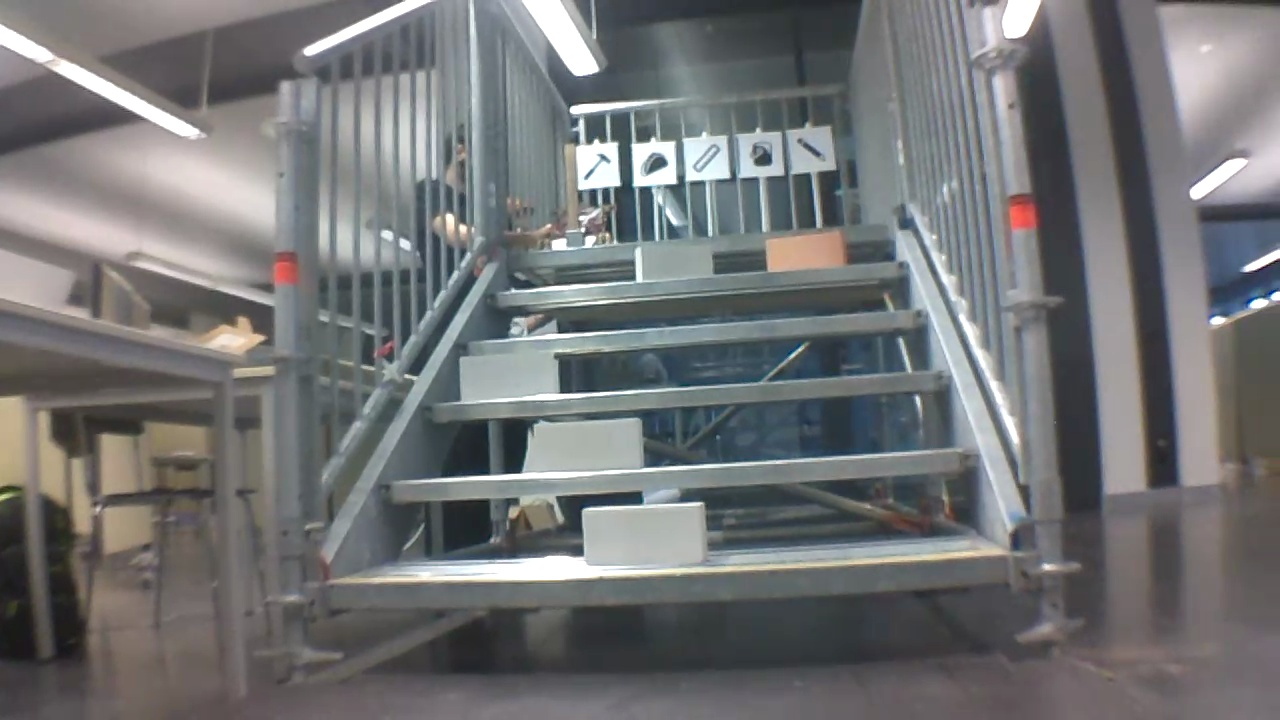brick: (584, 504, 705, 563), (533, 419, 644, 470), (459, 353, 553, 400), (634, 243, 712, 281), (769, 231, 843, 269)
bucket: (748, 137, 778, 167)
edge: (323, 555, 1005, 607), (378, 450, 975, 498), (425, 372, 956, 416), (456, 311, 935, 350), (488, 262, 913, 302), (518, 226, 891, 259)
hammer: (576, 145, 614, 181)
pencil: (793, 133, 834, 166)
ruler: (691, 138, 724, 177)
stairs: (266, 6, 1074, 660)
steps: (311, 220, 1021, 617)
taco: (641, 151, 670, 178)
